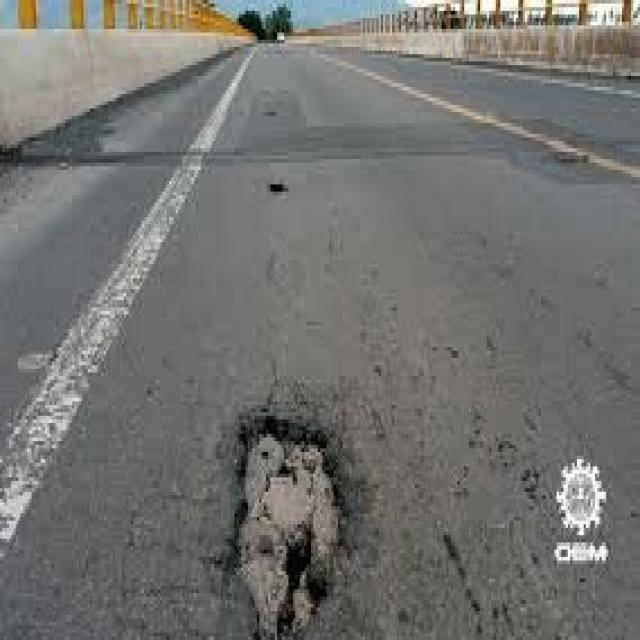Pothole: (200, 354, 381, 640), (248, 83, 306, 217)
